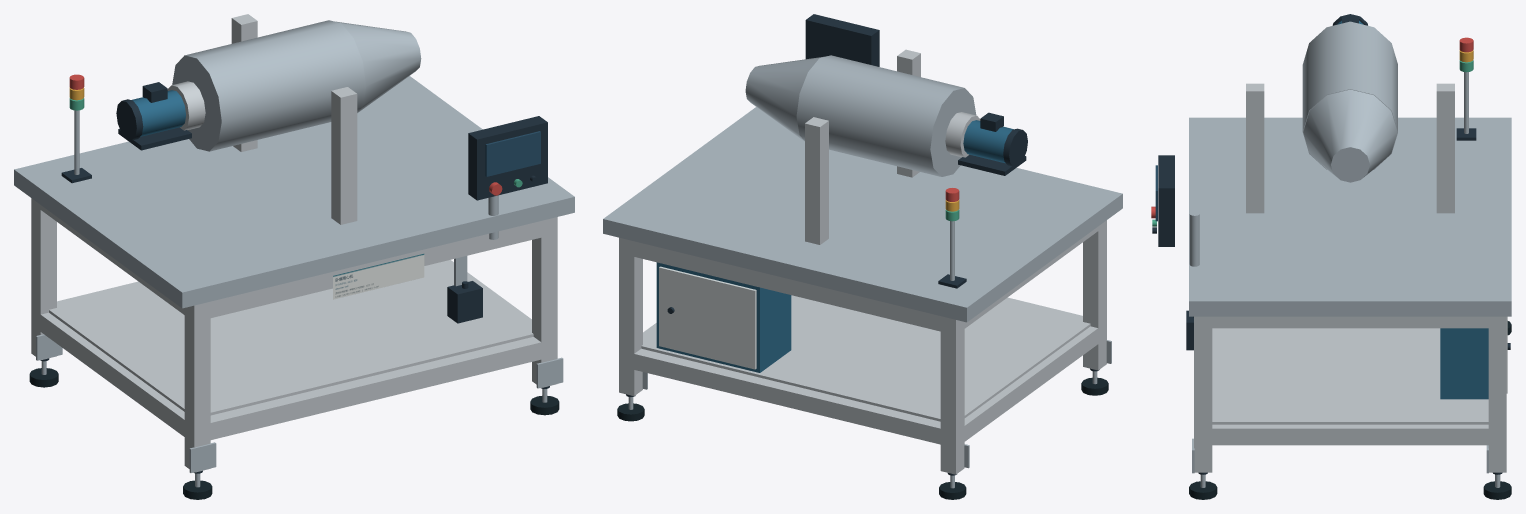
The model's file is decanter-cell.glb.
3 renders of one model, left to right at view 1: azimuth 30°, elevation 25°; view 2: azimuth 150°, elevation 25°; view 3: azimuth 270°, elevation 25°, orthographic. The views are drawn at different scales.
Visible parts, largest first — view 1: ClosedMachineBed_28, LowerShelf_29, CylindricalBowl_50, SlottedExtrusion_22, SlottedExtrusion_23, SlottedExtrusion_8, SlottedExtrusion_24, ConicalBowl_51, SlottedExtrusion_49, ConsoleBack_34, SlottedExtrusion_18, SlottedExtrusion_3 (+11 smaller); view 2: ClosedMachineBed_28, LowerShelf_29, CylindricalBowl_50, BackDoor_31, SlottedExtrusion_20, SlottedExtrusion_21, SlottedExtrusion_3, Cabinet_30, SlottedExtrusion_13, SlottedExtrusion_24, ConicalBowl_51, SlottedExtrusion_48 (+8 smaller); view 3: ClosedMachineBed_28, LowerShelf_29, CylindricalBowl_50, ConicalBowl_51, SlottedExtrusion_26, SlottedExtrusion_27, Cabinet_30, SlottedExtrusion_18, SlottedExtrusion_13, SlottedExtrusion_48, SlottedExtrusion_49, ConsoleBack_34 (+3 smaller).
Part boxes in pixels (<box>): ClosedMachineBed_28: <box>14,76,574,308</box>; LowerShelf_29: <box>49,261,533,415</box>; CylindricalBowl_50: <box>172,20,366,151</box>; SlottedExtrusion_22: <box>210,337,549,439</box>; SlottedExtrusion_23: <box>203,219,549,317</box>; SlottedExtrusion_8: <box>184,301,210,472</box>; SlottedExtrusion_24: <box>36,312,189,440</box>; ConicalBowl_51: <box>336,21,421,112</box>; SlottedExtrusion_49: <box>331,87,357,224</box>; ConsoleBack_34: <box>468,116,547,200</box>; SlottedExtrusion_18: <box>532,217,557,387</box>; SlottedExtrusion_3: <box>31,198,56,360</box>; ClosedMachineBed_28: <box>603,107,1122,322</box>; LowerShelf_29: <box>641,295,1090,421</box>; CylindricalBowl_50: <box>796,55,976,176</box>; BackDoor_31: <box>659,266,756,369</box>; SlottedExtrusion_20: <box>626,348,941,444</box>; SlottedExtrusion_21: <box>626,240,947,331</box>; SlottedExtrusion_3: <box>940,316,964,474</box>; Cabinet_30: <box>656,262,791,372</box>; SlottedExtrusion_13: <box>619,237,642,395</box>; SlottedExtrusion_24: <box>964,326,1098,441</box>; ConicalBowl_51: <box>745,56,824,141</box>; SlottedExtrusion_48: <box>805,117,828,244</box>; ClosedMachineBed_28: <box>1189,117,1511,316</box>; LowerShelf_29: <box>1212,328,1488,424</box>; CylindricalBowl_50: <box>1302,21,1397,169</box>; ConicalBowl_51: <box>1303,89,1397,182</box>; SlottedExtrusion_26: <box>1203,424,1497,445</box>; SlottedExtrusion_27: <box>1203,316,1496,328</box>; Cabinet_30: <box>1440,328,1488,399</box>; SlottedExtrusion_18: <box>1194,316,1212,472</box>; SlottedExtrusion_13: <box>1488,316,1506,472</box>; SlottedExtrusion_48: <box>1436,83,1454,213</box>; SlottedExtrusion_49: <box>1246,83,1264,213</box>; ConsoleBack_34: <box>1158,155,1174,246</box>.
Bounding box in the file's own units: 1.55 × 1.36 × 1.29.
Materials: 11 (1 with a texture image).
